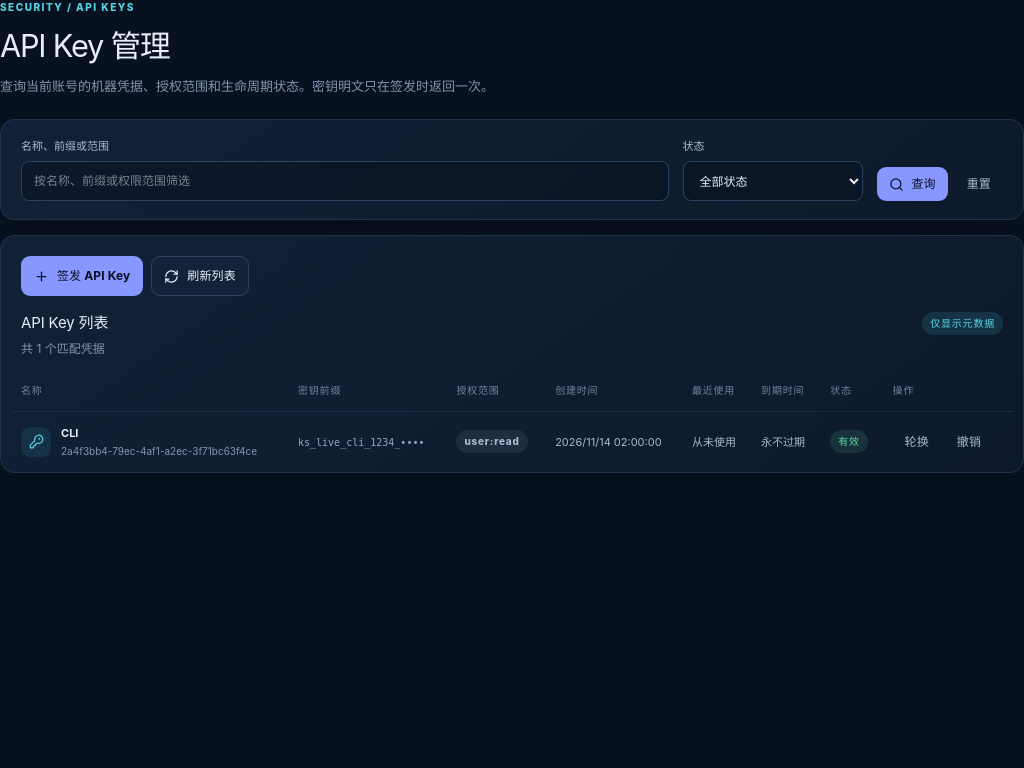
it: ApiKeysPage › 通过确认模态框撤销有效 API Key
Expected: the text "CLI" is shown, x1=61 y1=426 x2=78 y2=440
Click the button "撤销": (969, 442) x1=945 y1=425 x2=993 y2=459
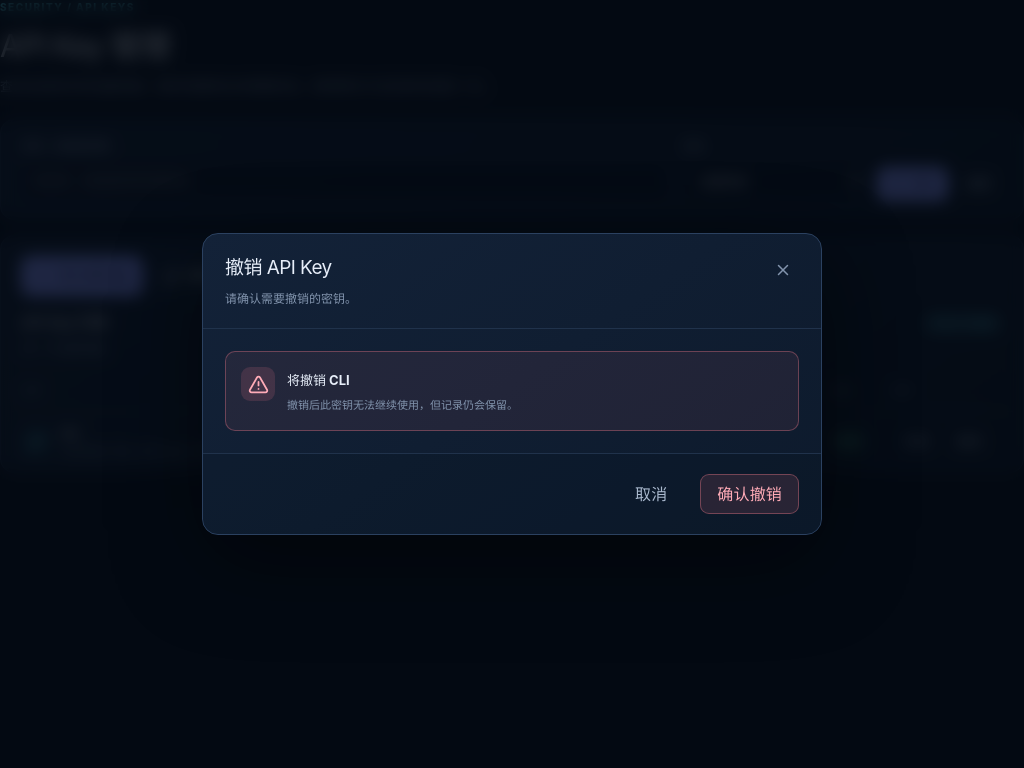
Now the dialog "撤销 API Key" shows "记录仍会保留", box x1=287 y1=398 x2=518 y2=412
Click the button "确认撤销": (750, 494) x1=700 y1=474 x2=799 y2=514
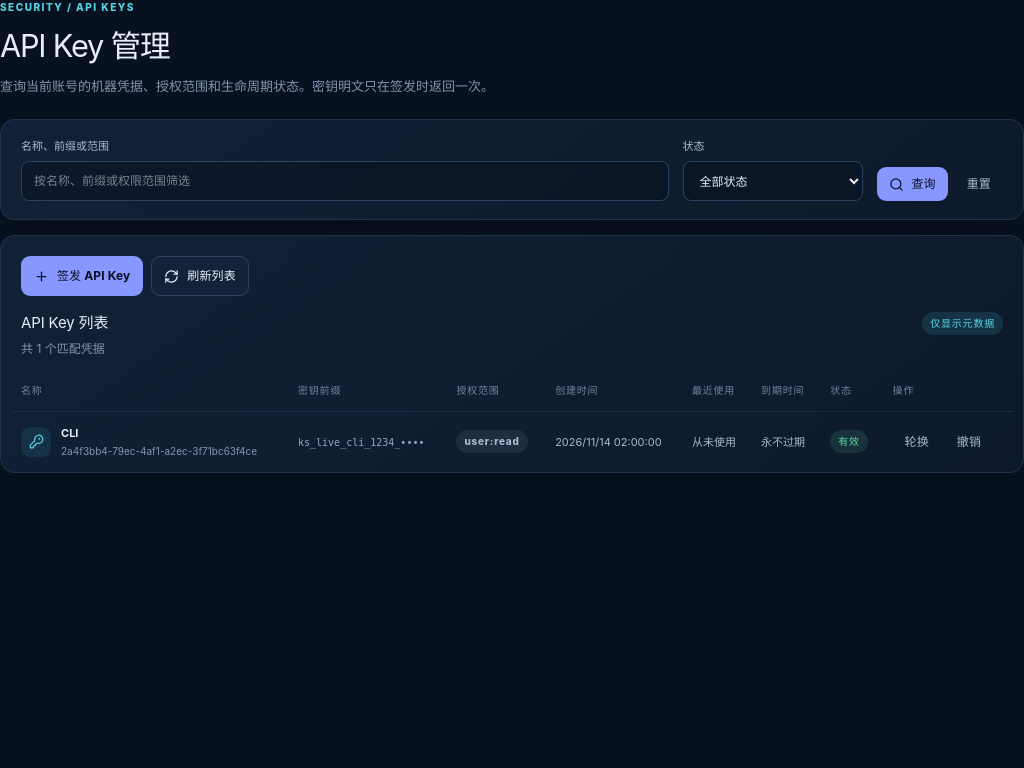
Now the dialog is gone
